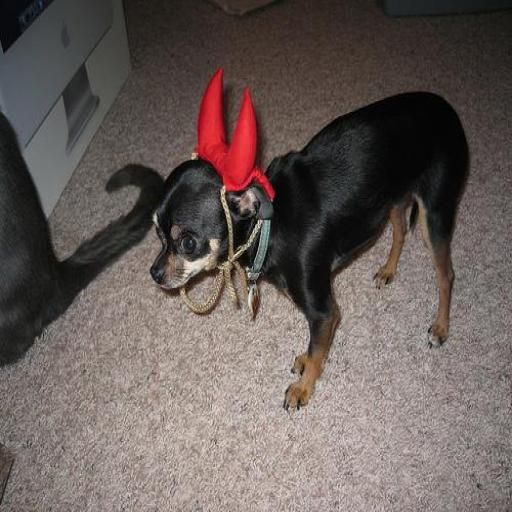dog_face: (140, 158, 262, 300)
